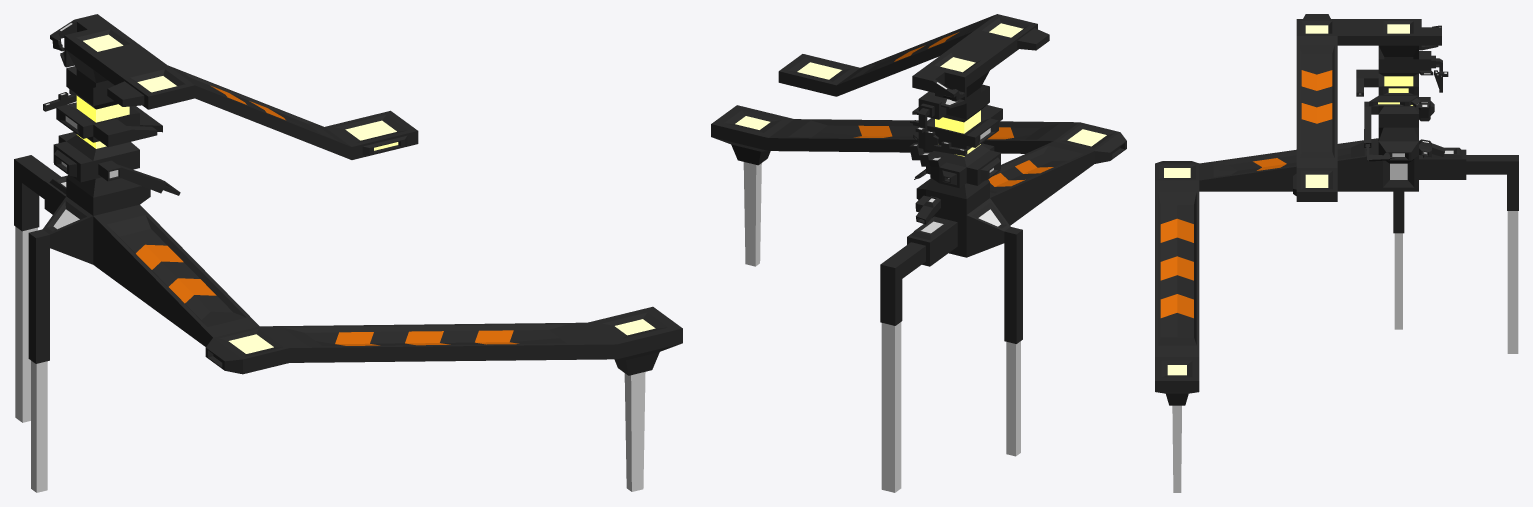
The model's file is Base_rocket_parkour.fbx.
3 renders of one model, left to right at view 1: azimuth 30°, elevation 25°; view 2: azimuth 150°, elevation 25°; view 3: azimuth 270°, elevation 25°, orthographic. The views are drawn at different scales.
Visible parts, largest first — view 1: Cube; view 2: Cube; view 3: Cube.
Part boxes in pixels (left/top/right/bottom): Cube: left=14, top=14, right=682, bottom=492; Cube: left=711, top=14, right=1126, bottom=492; Cube: left=1155, top=14, right=1518, bottom=492.
Size of the model in its own units: 683 by 580 by 590.
